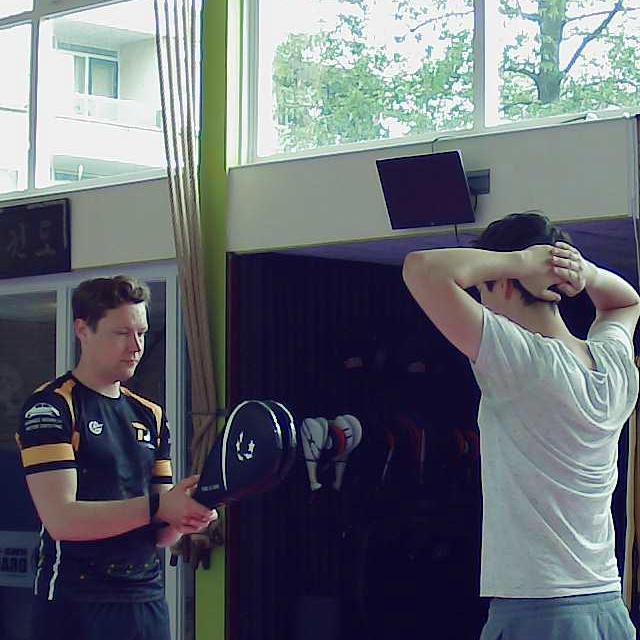paddle: (193, 399, 299, 510)
